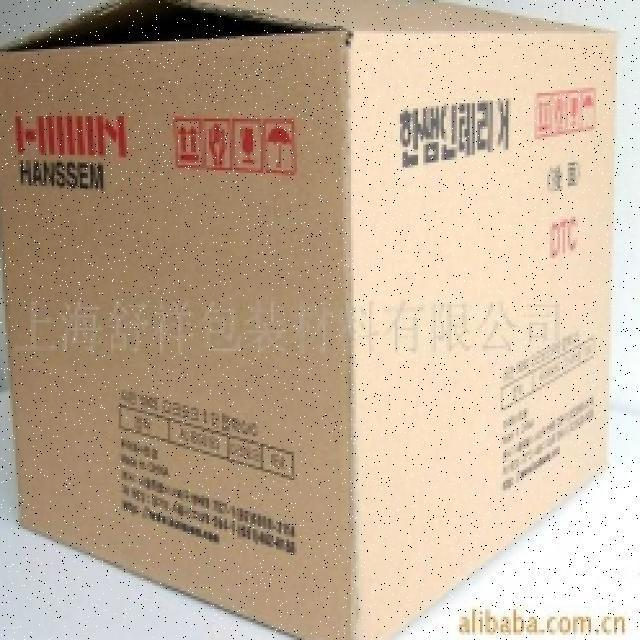box: (0, 0, 617, 637)
